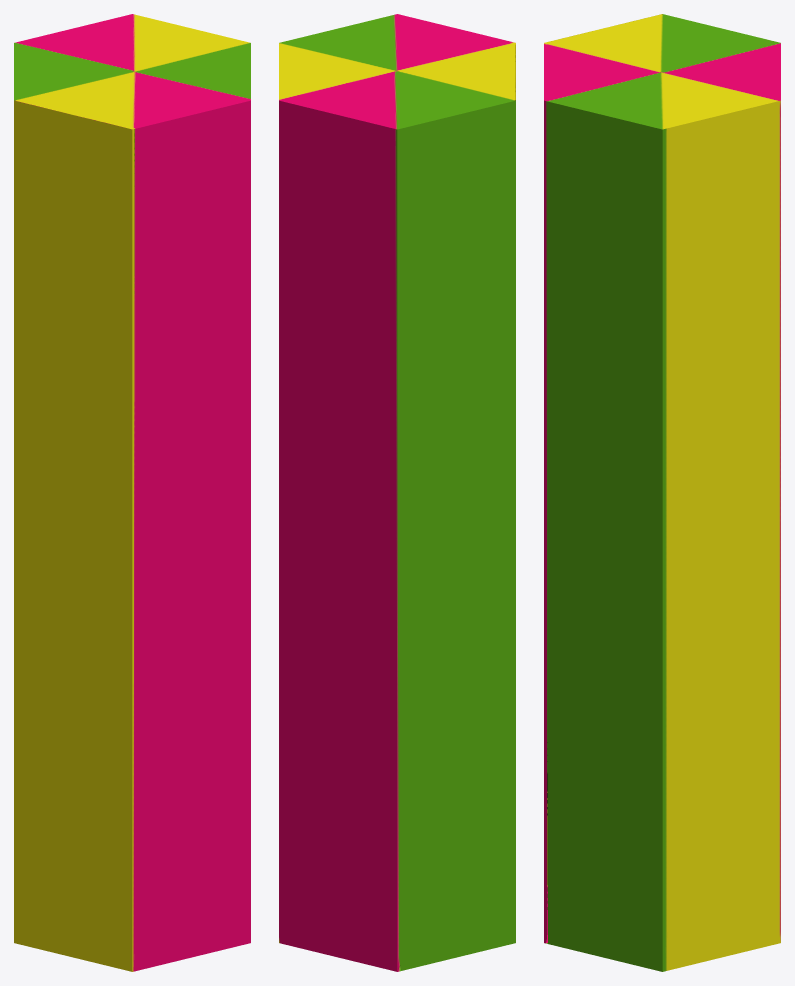
Rendered from Barrilete.fbx.
The picture shows the model from 3 angles, left to right: view 1: azimuth 30°, elevation 25°; view 2: azimuth 150°, elevation 25°; view 3: azimuth 270°, elevation 25°; orthographic projection.
Parts seen in each view (by area): view 1: pCylinder5; view 2: pCylinder5; view 3: pCylinder5.
Boxes of the visible parts, left/top/right/bottom form: pCylinder5: left=14, top=14, right=250, bottom=971; pCylinder5: left=279, top=14, right=515, bottom=971; pCylinder5: left=544, top=14, right=780, bottom=971.
Size of the model in its own units: 10 by 34 by 8.66.
Materials: 1 (1 with a texture image).
